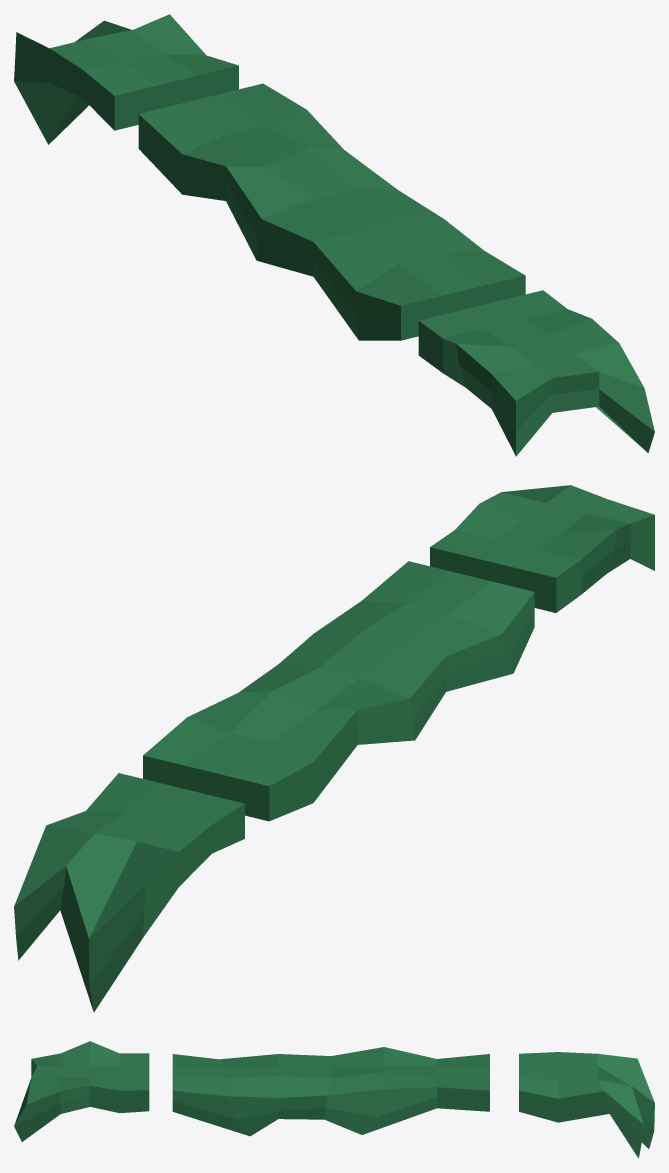
Rendered from suelo.fbx.
3 renders of one model, top to bottom at view 1: azimuth 30°, elevation 25°; view 2: azimuth 150°, elevation 25°; view 3: azimuth 270°, elevation 25°, orthographic. The views are drawn at different scales.
Visible parts, largest first — view 1: Cube, Cube.002, Cube.001; view 2: Cube, Cube.001, Cube.002; view 3: Cube, Cube.001, Cube.002.
Part boxes in pixels (x1,y1,x2,y2): Cube: [138, 83, 525, 340]; Cube.002: [418, 290, 654, 456]; Cube.001: [14, 14, 238, 144]; Cube: [143, 561, 534, 821]; Cube.001: [14, 773, 244, 1012]; Cube.002: [430, 485, 654, 612]; Cube: [172, 1047, 489, 1136]; Cube.001: [519, 1052, 654, 1158]; Cube.002: [14, 1041, 149, 1141].
Size of the model in its own units: 334 by 315 by 1981.
